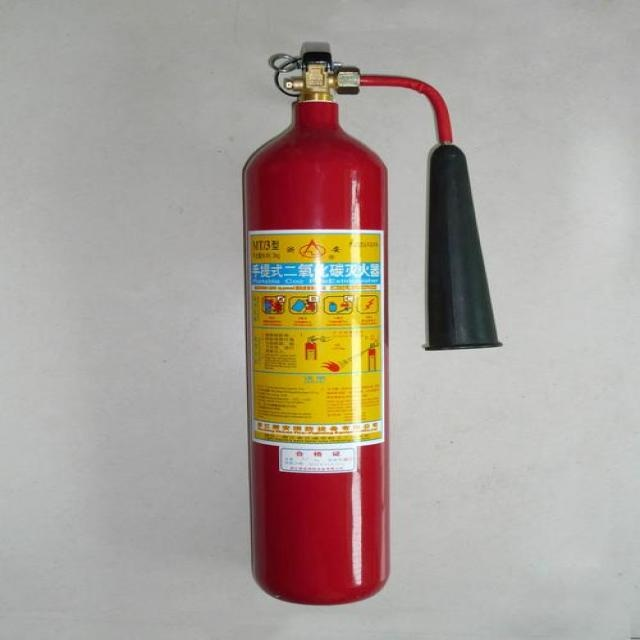fire extinguisher: (239, 17, 512, 618)
